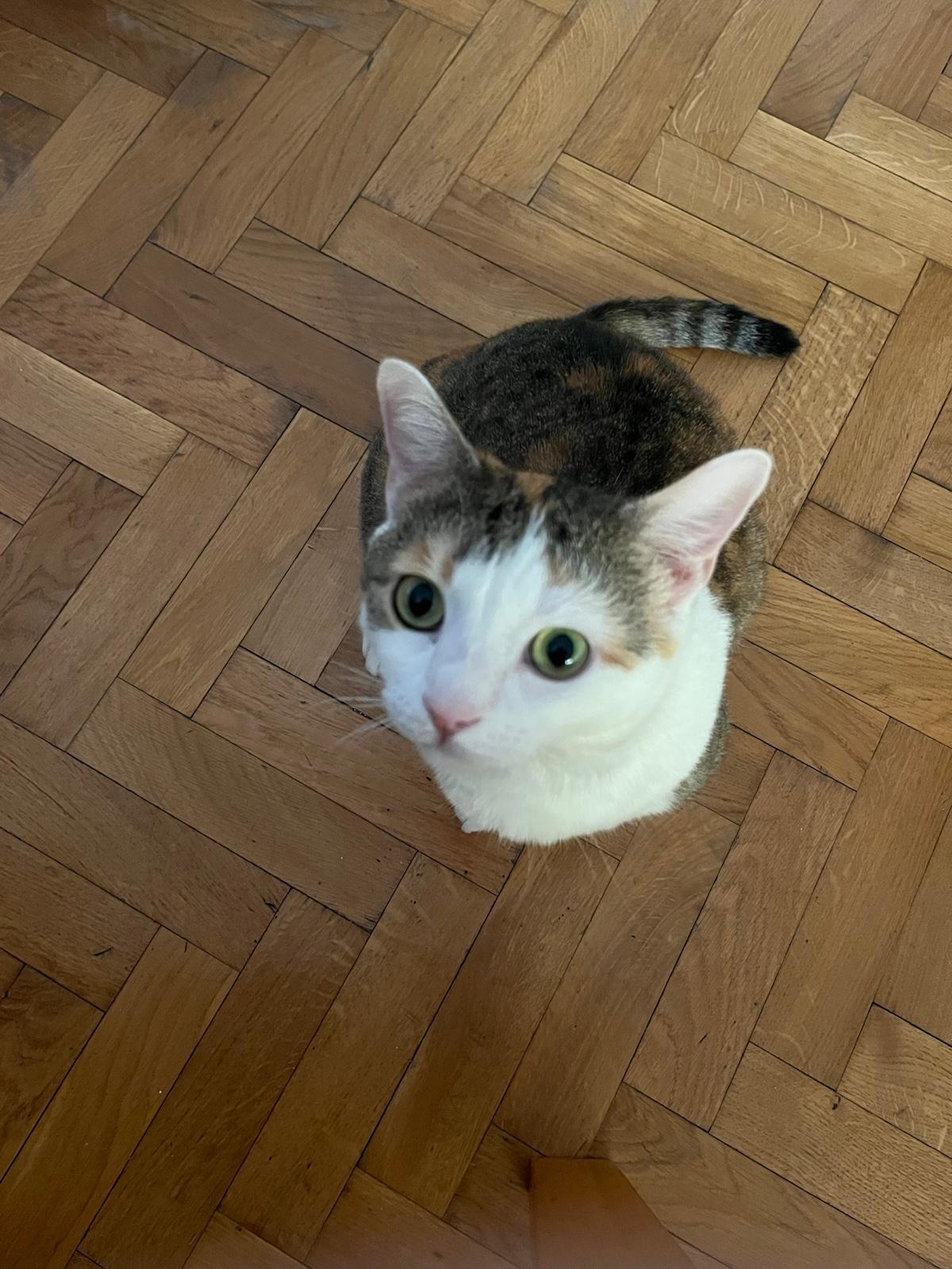macka: (356, 290, 804, 844)
